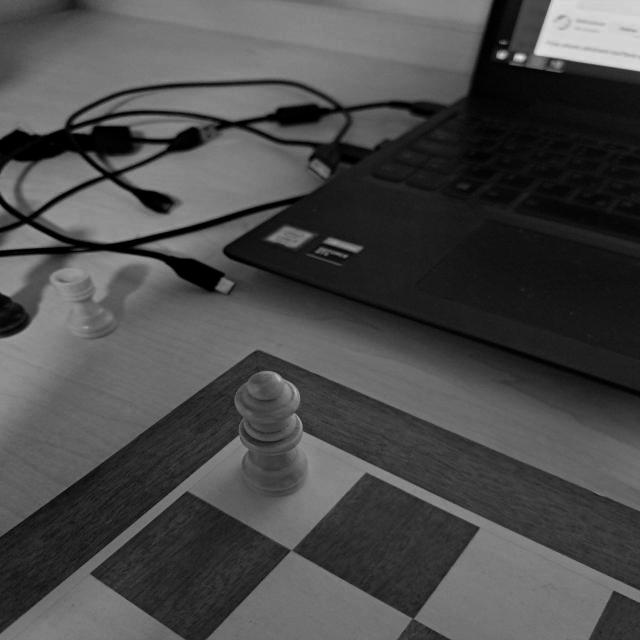chess-table-corners: (207, 406, 341, 464)
